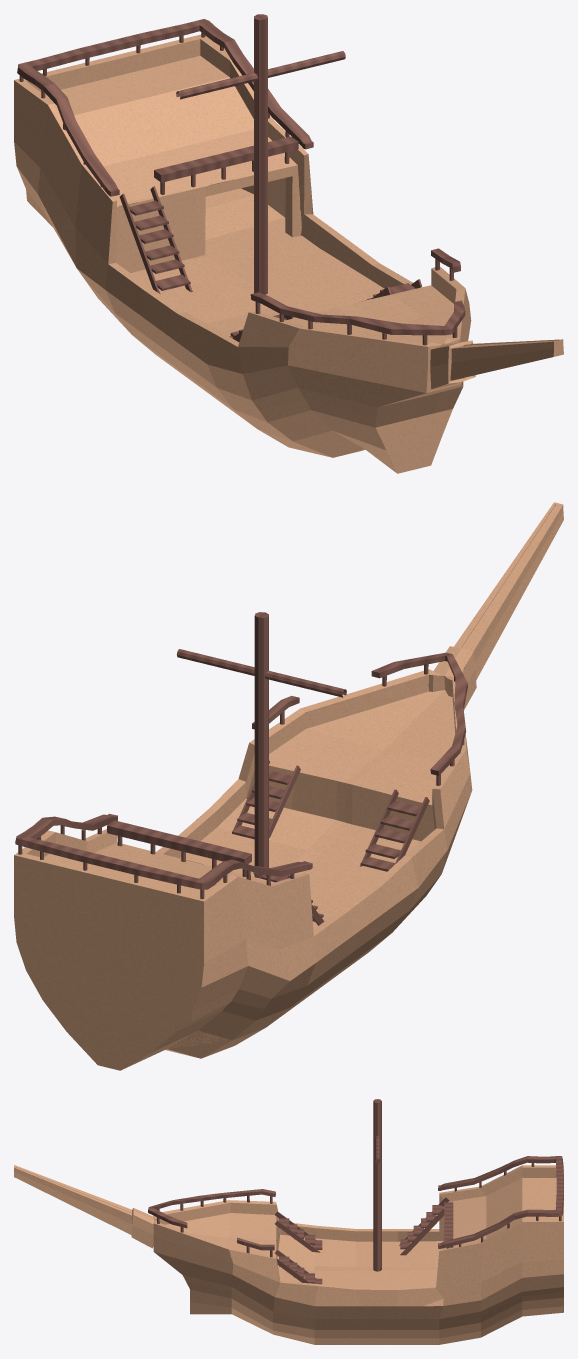
File: Ship4.3.glb
3 views of the same model, one above another, from view 1: azimuth 30°, elevation 25°; view 2: azimuth 150°, elevation 25°; view 3: azimuth 270°, elevation 25° (orthographic). The views are drawn at different scales.
Parts seen in each view (by area): view 1: body1; view 2: body1; view 3: body1.
Part boxes in pixels (x1,y1,x2,y2): body1: (14, 14, 563, 473); body1: (14, 502, 563, 1070); body1: (14, 1099, 563, 1344).
Size of what is drawn, in the model's own units: 10.06 by 17.59 by 37.02.
Materials: 2 (2 with a texture image).
